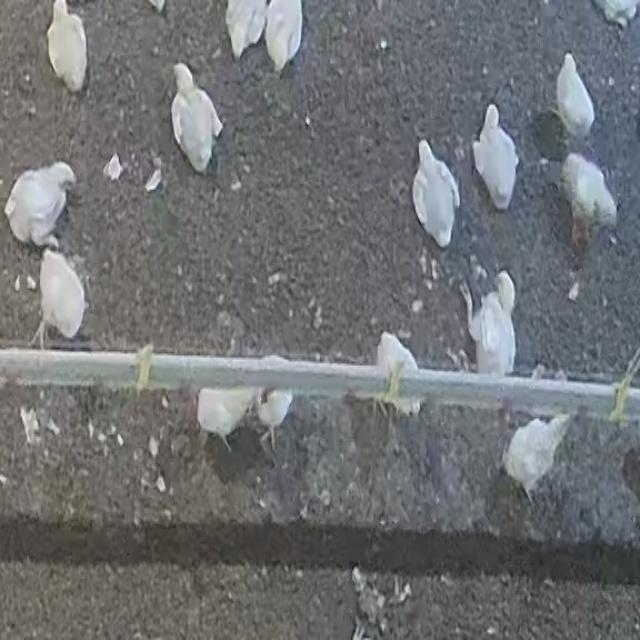chicken: (158, 62, 222, 176), (469, 93, 521, 218), (25, 249, 86, 346), (501, 412, 571, 495), (463, 273, 517, 379), (0, 169, 76, 244), (410, 138, 457, 248), (567, 148, 616, 246), (374, 330, 423, 418), (551, 54, 594, 141), (43, 3, 85, 92), (195, 378, 249, 447), (253, 353, 289, 442), (267, 0, 305, 78), (221, 0, 263, 58)
